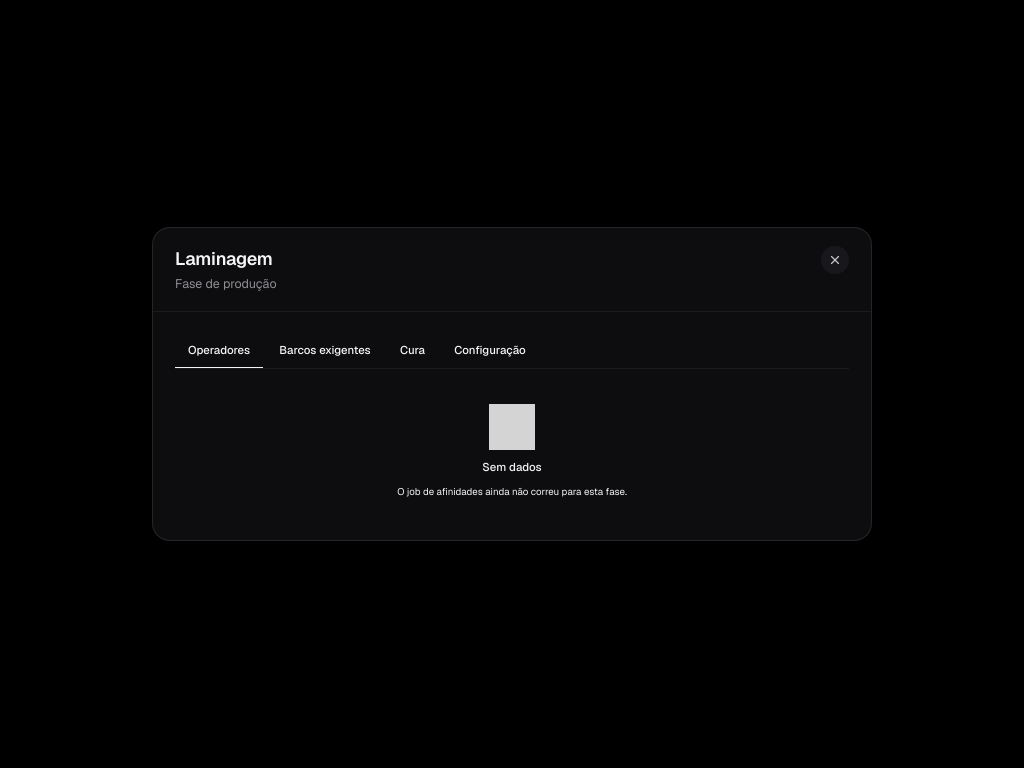
Scenario: FaseSheet — Configuração (Q.154.A) › mostra nome do colaborador com o código ao lado; cai no código quando não resolve
The image size is (1024, 768).
Check: the text "Laminagem" is shown, box [175,246,277,272]
Muda para a aba "Configuração".
Step 1. Click the tab "Configuração" → (490, 351), box [441,334,539,369]
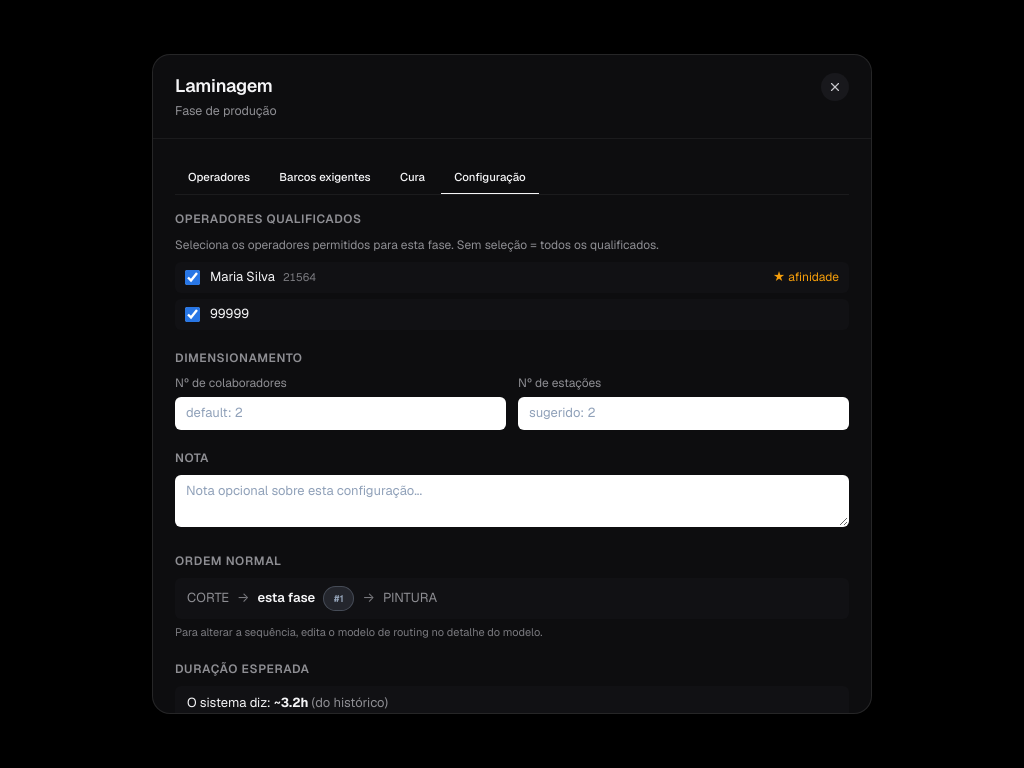
Check: the text "Maria Silva" is shown, box [210,268,275,287]
Check: the text "21564" is shown, box [283,270,316,286]
Check: the text "99999" is shown, box [210,305,249,322]
